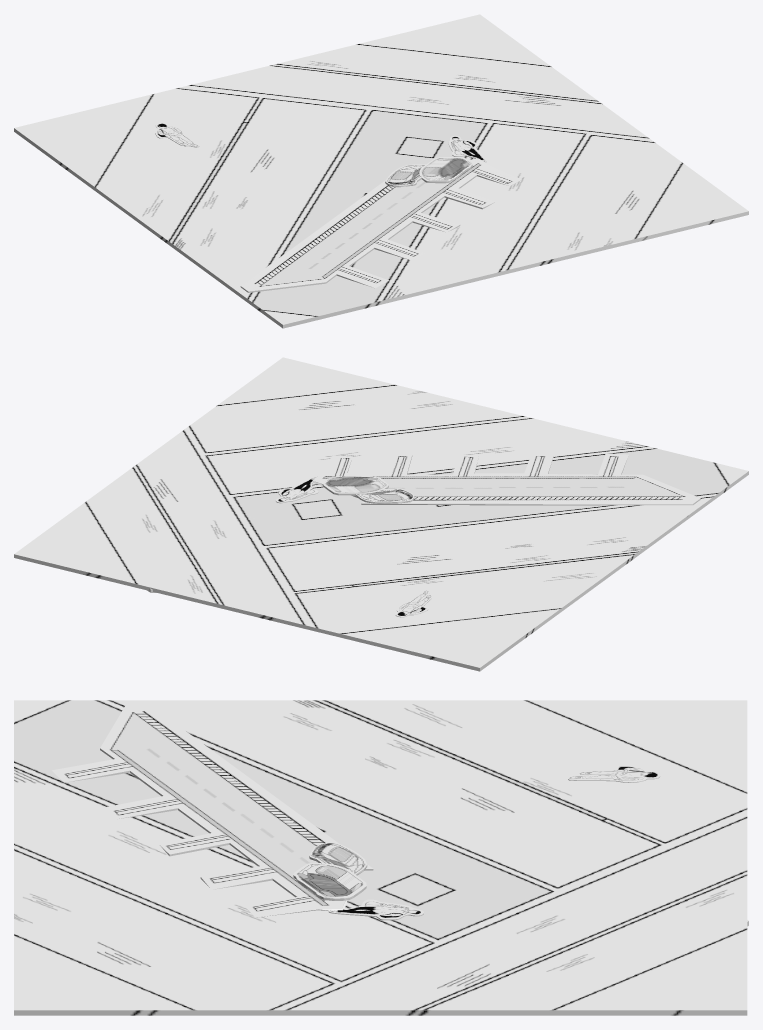
3 views of the same model, one above another, from view 1: azimuth 30°, elevation 25°; view 2: azimuth 150°, elevation 25°; view 3: azimuth 270°, elevation 25° (orthographic). The views are drawn at different scales.
Parts seen in each view (by area): view 1: 平面, Curve, Curve.001, 车, 人物3, 人物1; view 2: 平面, Curve, Curve.001, 车, 人物1, 人物3; view 3: 平面, Curve, Curve.001, 车, 人物1, 人物3.
Boxes of the visible parts, <box> form: 平面: <box>14,14,748,328</box>; Curve: <box>240,158,521,292</box>; Curve.001: <box>419,157,472,183</box>; 车: <box>385,164,425,187</box>; 人物3: <box>155,123,199,147</box>; 人物1: <box>448,135,486,162</box>; 平面: <box>14,357,748,671</box>; Curve: <box>312,453,700,505</box>; Curve.001: <box>322,476,388,495</box>; 车: <box>355,488,414,503</box>; 人物1: <box>275,477,318,503</box>; 人物3: <box>395,590,431,617</box>; 平面: <box>14,700,747,1015</box>; Curve: <box>52,703,373,917</box>; Curve.001: <box>293,863,366,900</box>; 车: <box>309,842,367,875</box>; 人物1: <box>328,899,423,920</box>; 人物3: <box>568,765,660,782</box>.
Bounding box in the file's own units: 0.4495 × 0.00826 × 0.4504.
Materials: 13 (13 with a texture image).
